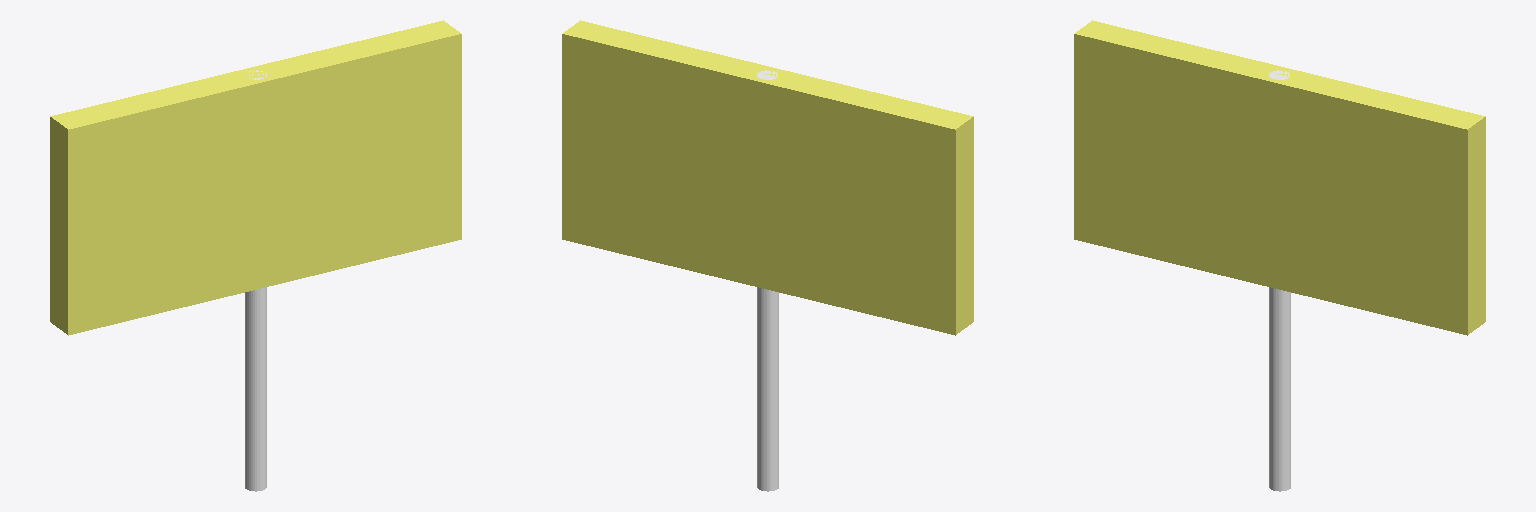
robot.urdf — horizontal_flap:
<?xml version="1.0"?>
<robot name="horizontal_flap">
  <!-- Vertical bar (base) -->
  <link name="vertical_bar">
    <visual>
      <origin xyz="0 0 0.1" rpy="0 0 0"/>
      <geometry>
        <cylinder radius="0.005" length="0.2"/>
      </geometry>
      <material name="gray">
        <color rgba="1 1 1 1"/>
      </material>
    </visual>
    <collision>
      <origin xyz="0 0 0.1" rpy="0 0 0"/>
      <geometry>
        <cylinder radius="0.005" length="0.2"/>
      </geometry>
    </collision>
    <inertial>
      <mass value="0.001"/>
      <origin xyz="0 0 0" rpy="0 0 0"/>
      <inertia 
         ixx="0.0001" ixy="0" ixz="0"
         iyy="0.0001" iyz="0"
         izz="0.0001"/>
    </inertial>
  </link>
    

  <!-- Horizontal flap -->
  <link name="horizontal_flap">
    <visual>
      <origin xyz="0 0 0" rpy="0 0 0"/>
      <geometry>
        <box size="0.2 0.1 0.016"/>
      </geometry>
      <material name="box_color_horizontal_flap">
        <color rgba="1 1 0.5 1"/>
      </material>
    </visual>
    <collision>
      <origin xyz="0 0 0" rpy="0 0 0"/>
      <geometry>
        <box size="0.2 0.1 0.016"/>
      </geometry>
    </collision>
    <inertial>
      <mass value="0.001"/>
      <origin xyz="0 0 0" rpy="0 0 0"/>
      <inertia
         ixx="0.0001" ixy="0" ixz="0"
         iyy="0.0001" iyz="0"
         izz="0.0001"/>
    </inertial>
  </link>
    
  <joint name="flap_hinge_joint" type="continuous">
    <parent link="vertical_bar"/>
    <child link="horizontal_flap"/>
    <origin xyz="0 0 0.15000000000000002" rpy="1.5707963267948966 0 0"/>
    <axis xyz="0 1 0"/>
    <dynamics damping="0.0001" friction="0.0001"/>
    <limit lower="-3.141592653589793" upper="3.141592653589793"/>
  </joint>
    

</robot>

--- Facts derived from the render (not from the file) ---
Views: 3 orthographic renders of the robot side by side, from view 1: azimuth 30°, elevation 25°; view 2: azimuth 150°, elevation 25°; view 3: azimuth 330°, elevation 25°.
Robot: horizontal_flap — 2 links, 1 joints (1 continuous); root link vertical_bar; default pose: every joint at zero.
Visible links, largest first — view 1: horizontal_flap, vertical_bar; view 2: horizontal_flap, vertical_bar; view 3: horizontal_flap, vertical_bar.
Link boxes in pixels (x1,y1,x2,y2): horizontal_flap: (50, 20, 461, 335); vertical_bar: (245, 70, 266, 491); horizontal_flap: (562, 20, 973, 335); vertical_bar: (757, 70, 778, 491); horizontal_flap: (1074, 20, 1485, 335); vertical_bar: (1269, 70, 1290, 491).
Size in the robot's own frame: 0.2 by 0.016 by 0.2 metres.
Geometry: primitives only (box / cylinder / sphere), no mesh files.